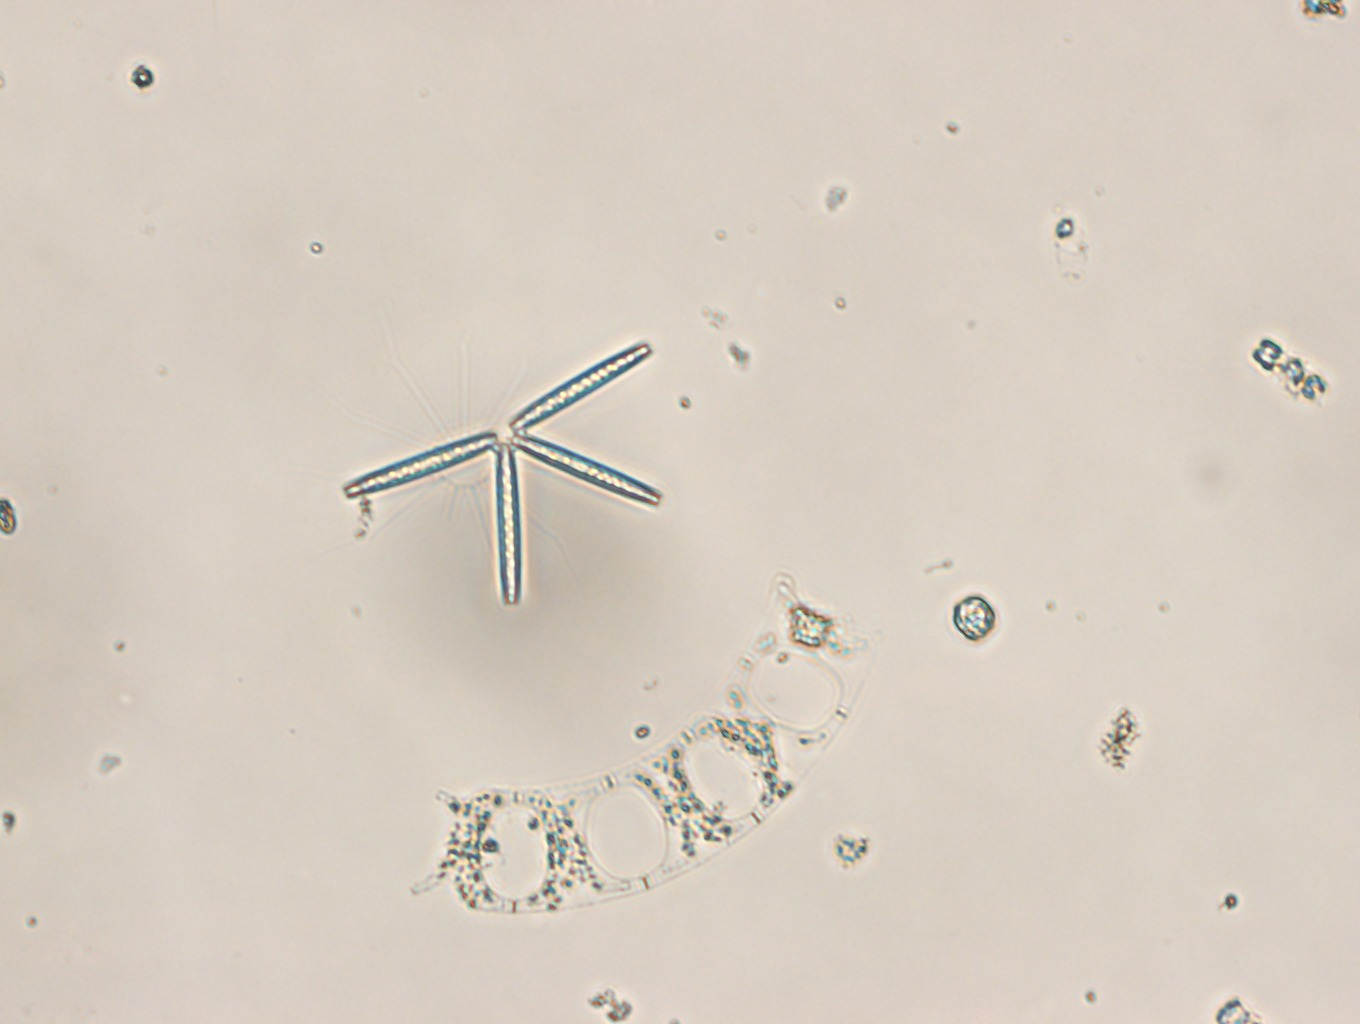eucampia: (411, 577, 888, 918)
thalassionema nitzschioides: (342, 335, 663, 610)
